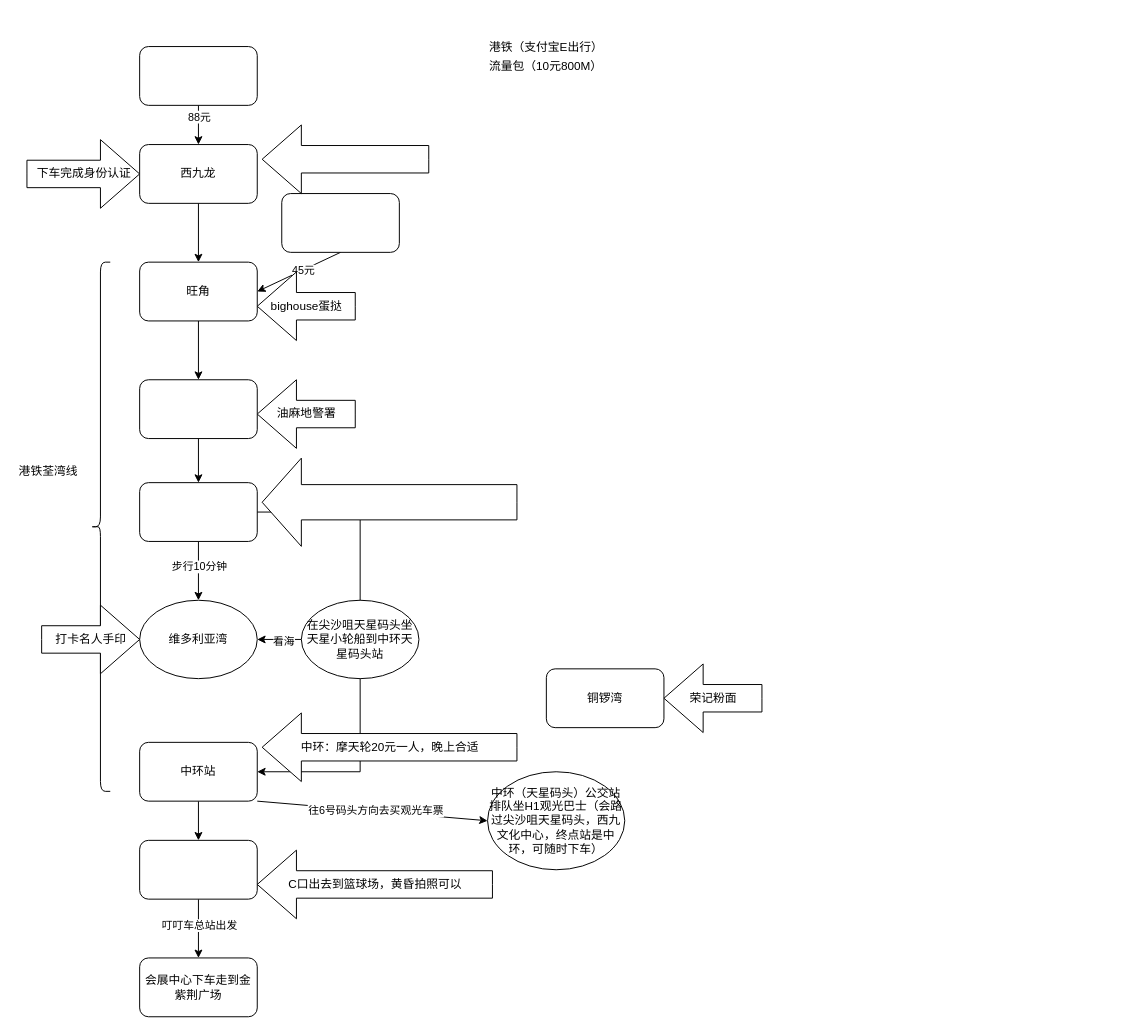
Image size: 1141x1034. Some labels were removed from this diagram. The centre of each missing label's shape, as x and y in pixels:
C出口有西九艺术公园: the point at 345,159
坚尼地铁站: the point at 198,869
尖沙咀: the point at 198,511
尖沙咀码头的钟楼打卡 （ps可以领取香港有礼，吃饭好像有打折）: the point at 389,501
油麻地: the point at 198,409
深圳坪山 深圳北: the point at 198,75
福田口岸步行到落马洲地铁，坐到旺角: the point at 340,222
